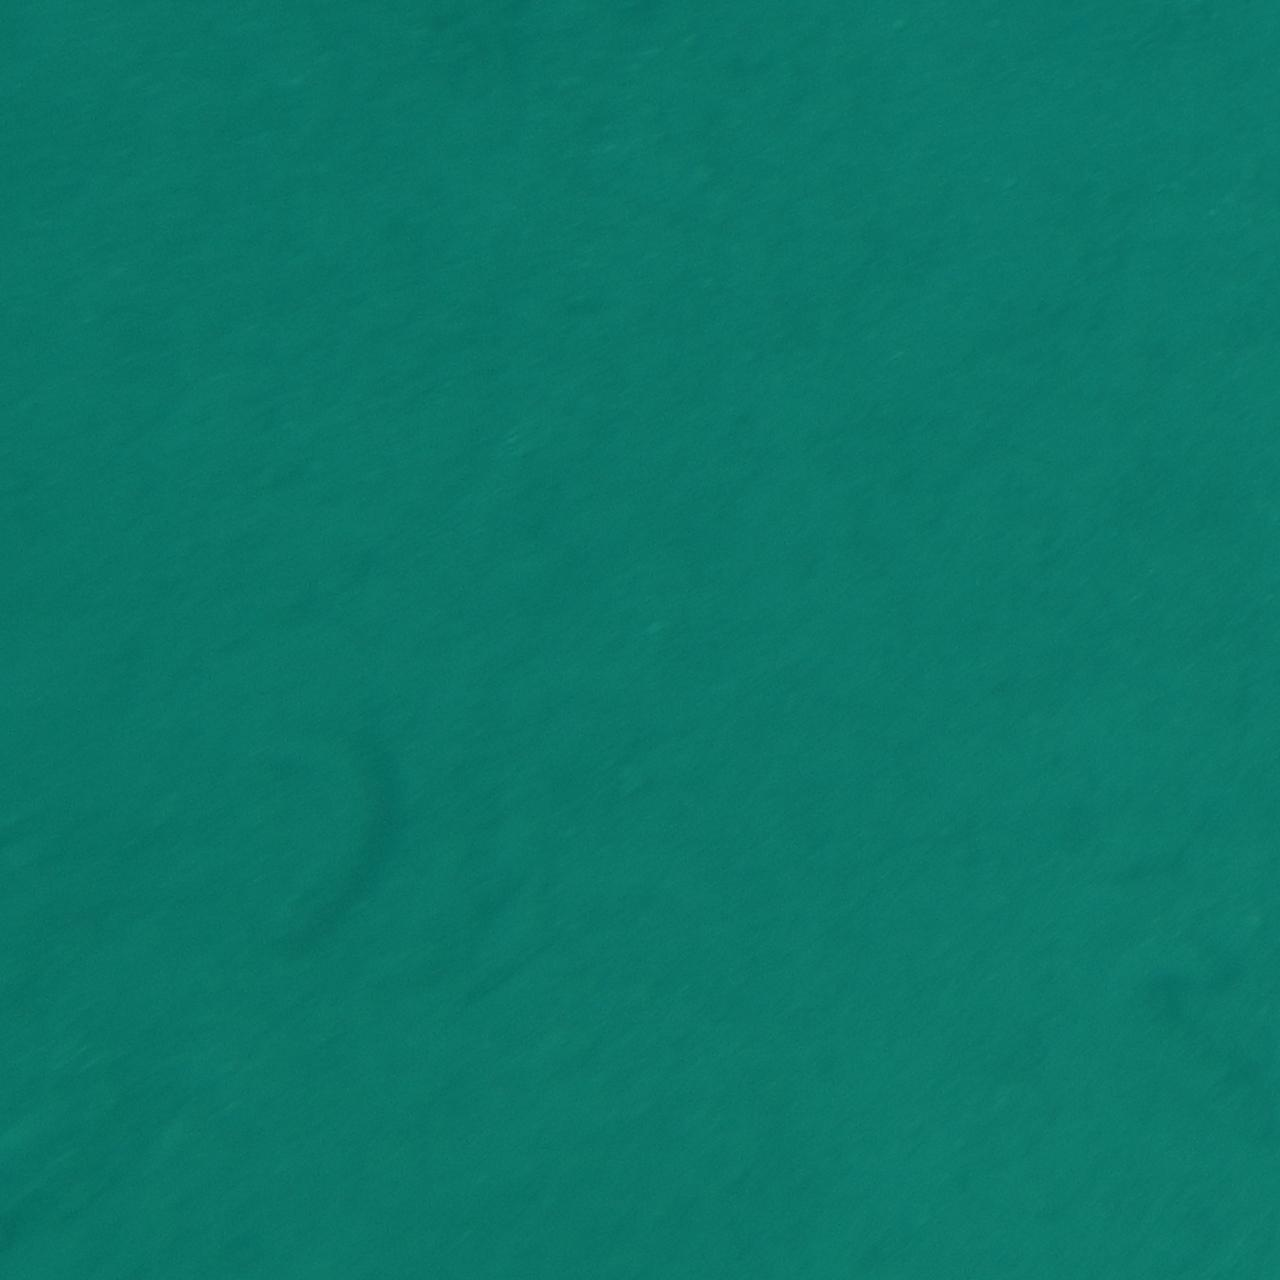Holothuria tubulosa: (247, 685, 413, 993)
